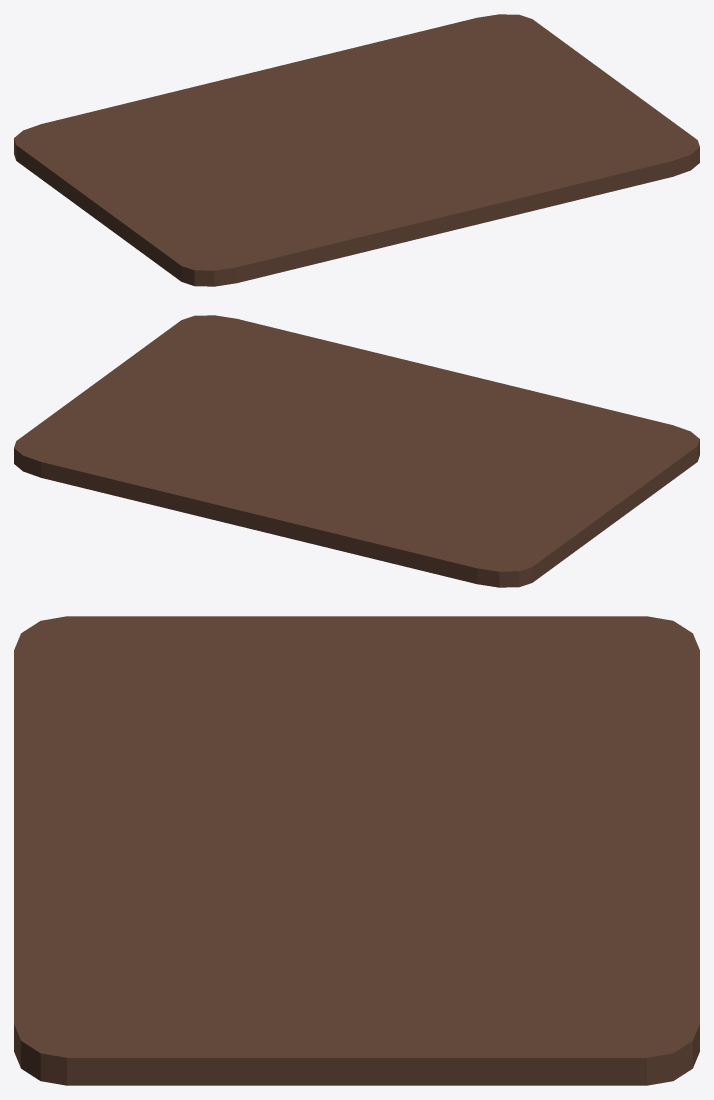
Rendered from CardSpot.fbx.
The picture shows the model from 3 angles, top to bottom: view 1: azimuth 30°, elevation 25°; view 2: azimuth 150°, elevation 25°; view 3: azimuth 270°, elevation 25°; orthographic projection. The views are drawn at different scales.
Parts seen in each view (by area): view 1: CardSpot; view 2: CardSpot; view 3: CardSpot.
Boxes of the visible parts, x1,y1,x2,y2 form: CardSpot: [14, 14, 699, 286]; CardSpot: [14, 315, 699, 587]; CardSpot: [14, 616, 699, 1085].
Bounding box in the file's own units: 244 × 7.17 × 160.
